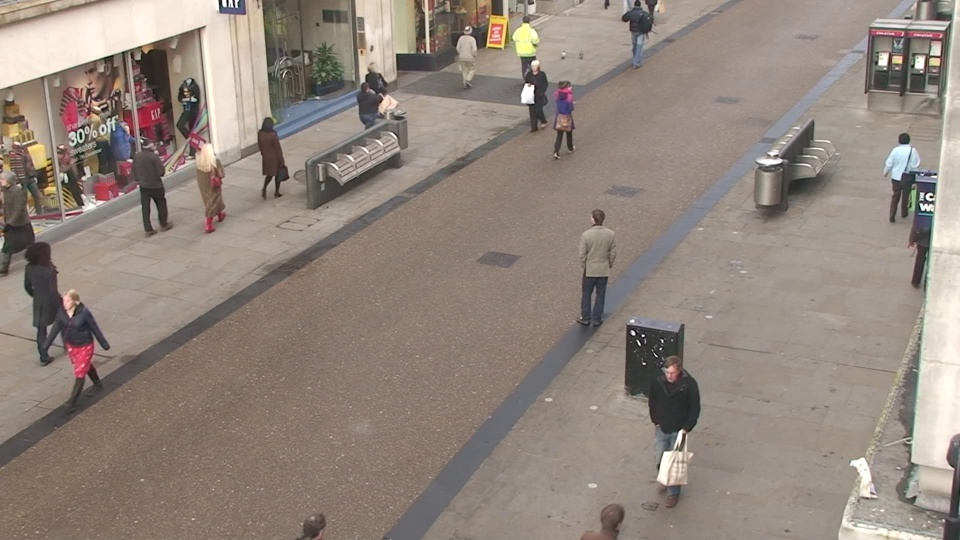pedestrian: (48, 283, 110, 421), (644, 351, 697, 507), (15, 237, 75, 363), (878, 128, 923, 230), (579, 203, 617, 323), (128, 134, 170, 232), (190, 138, 229, 238), (253, 113, 288, 206), (581, 489, 642, 540), (285, 496, 354, 540), (352, 78, 382, 162), (549, 76, 577, 160), (359, 61, 388, 140), (523, 57, 550, 137), (456, 23, 481, 92), (514, 13, 538, 80)
